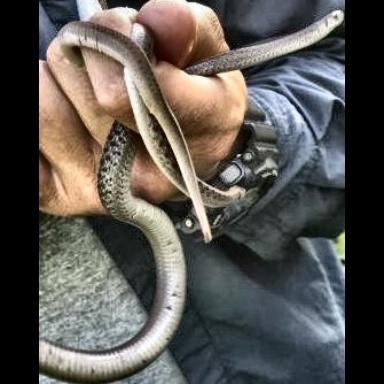snake: (40, 121, 187, 384), (56, 22, 210, 241), (186, 11, 344, 77)
